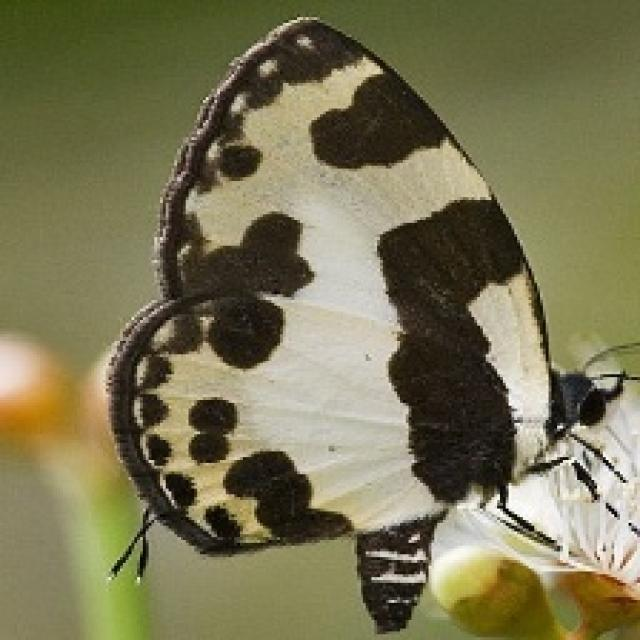butterfly: (100, 11, 637, 634)
